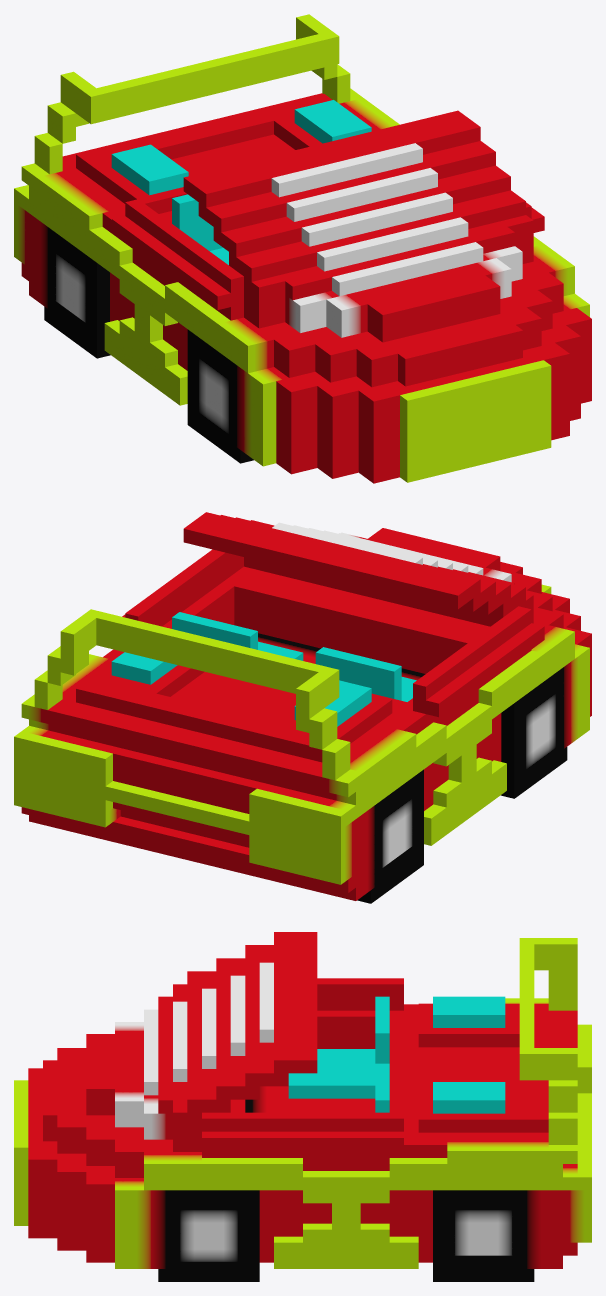
Rendered from Car_38.fbx.
3 renders of one model, top to bottom at view 1: azimuth 30°, elevation 25°; view 2: azimuth 150°, elevation 25°; view 3: azimuth 270°, elevation 25°, orthographic. The views are drawn at different scales.
Visible parts, largest first — view 1: Car_38; view 2: Car_38; view 3: Car_38.
Part boxes in pixels (x1,y1,x2,y2): Car_38: (14, 14, 591, 483); Car_38: (14, 512, 591, 903); Car_38: (14, 932, 591, 1281).
Bounding box in the file's own units: 25 × 16 × 40.
Materials: 1 (1 with a texture image).
